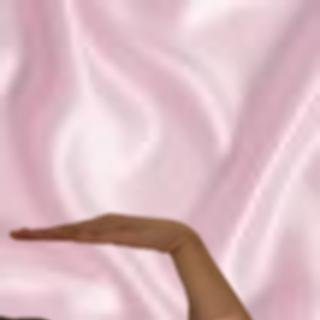WAIT: (4, 207, 196, 258)
